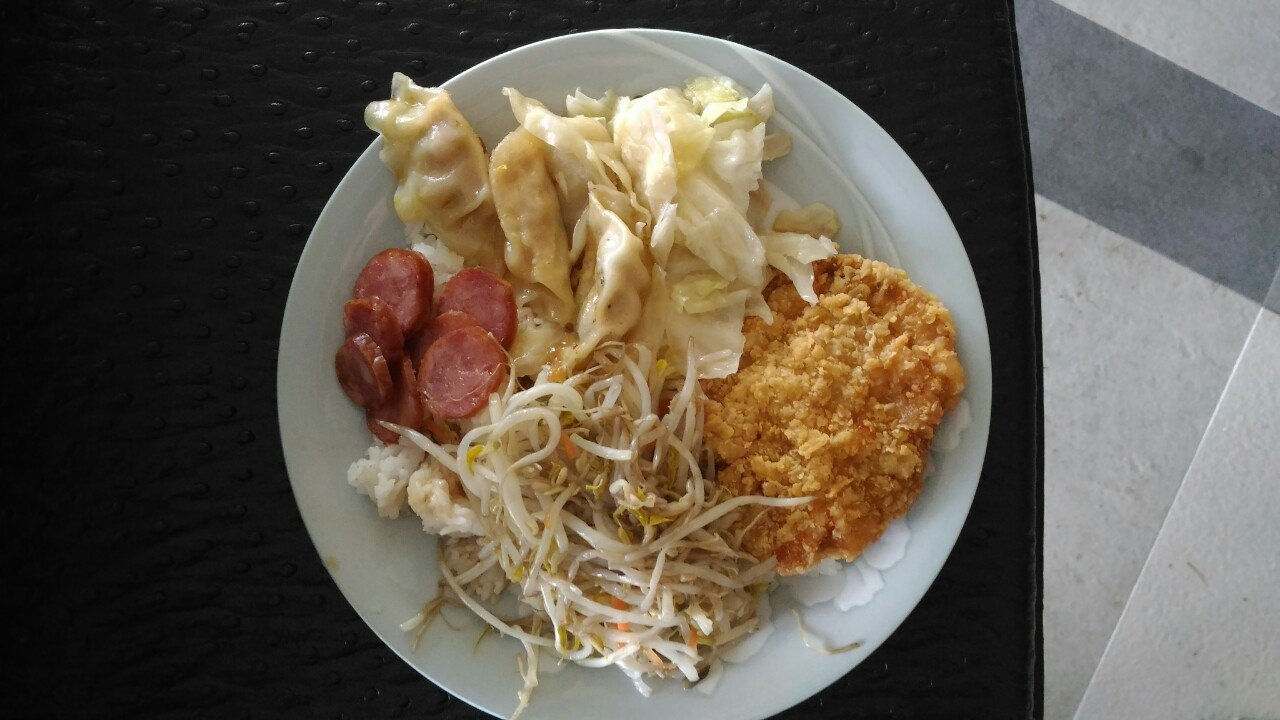chinese_cabbage: (626, 85, 774, 333)
chinese_sausage: (326, 244, 520, 436)
fried_chicken: (711, 257, 971, 562)
fried_dumplings: (359, 64, 633, 326)
mung_bean_sprouts: (490, 354, 705, 673)
rice: (345, 422, 466, 549)
